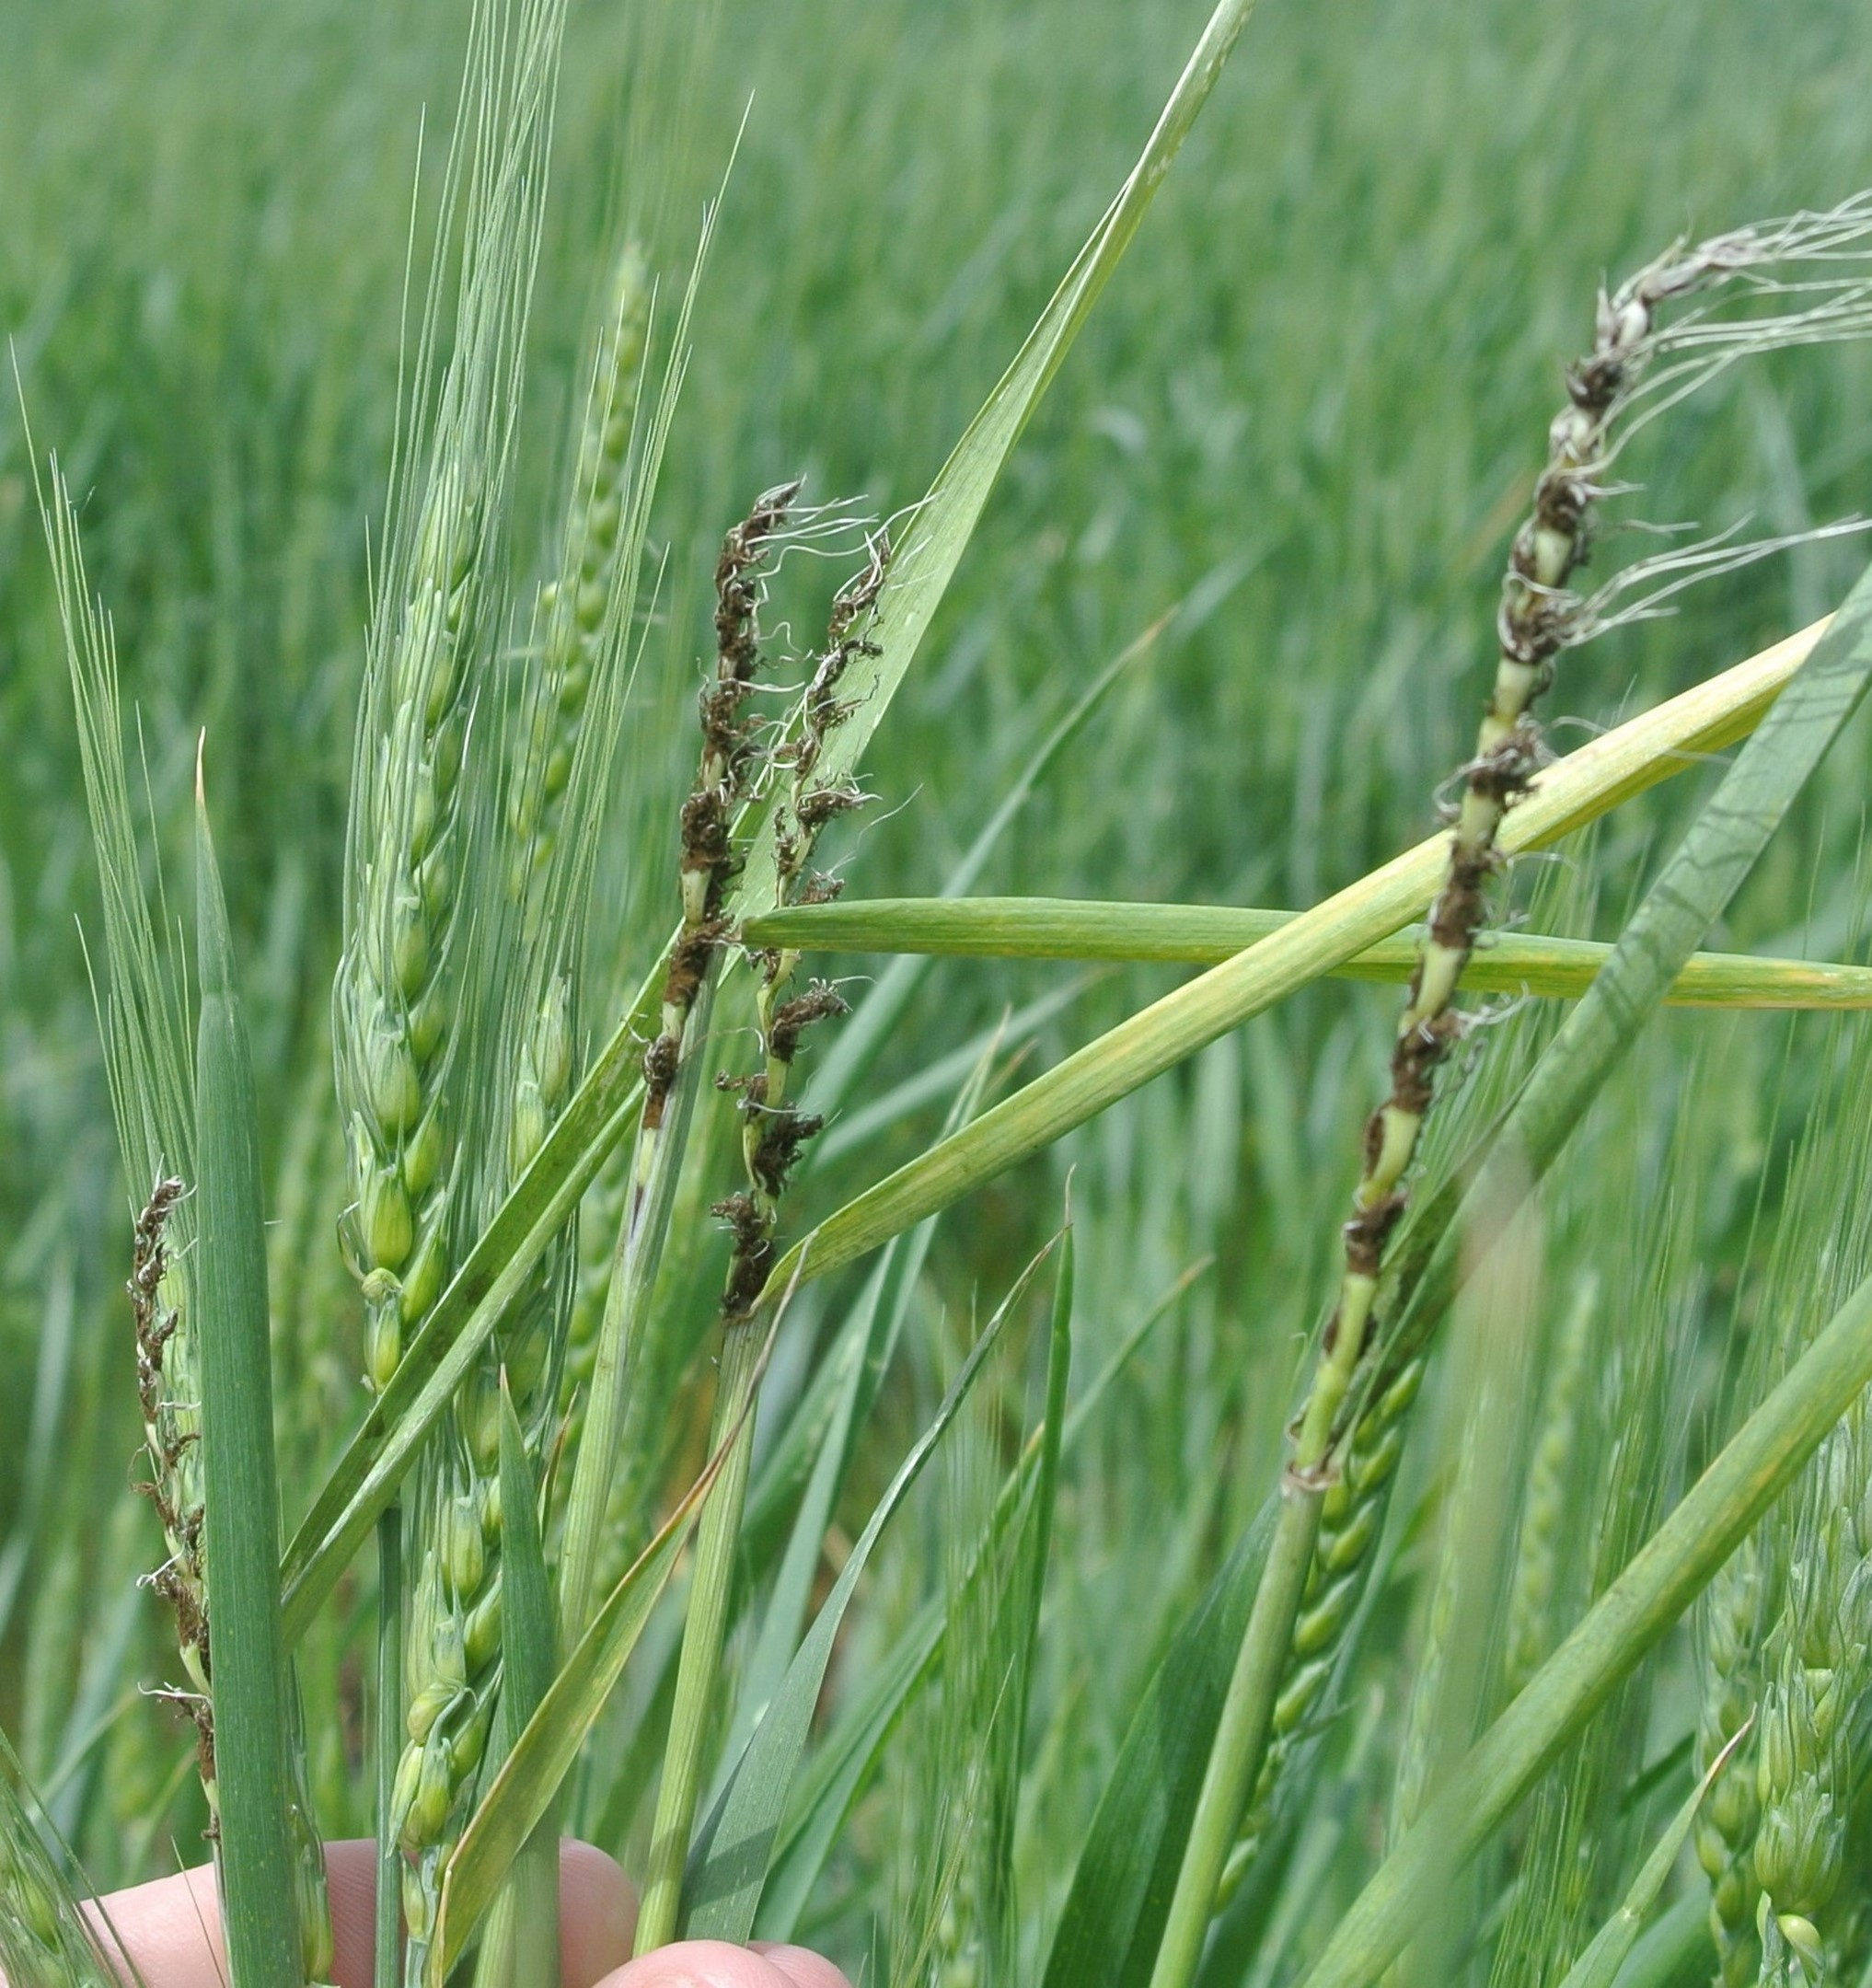Wheat Loose Smut: (621, 450, 932, 1339)
